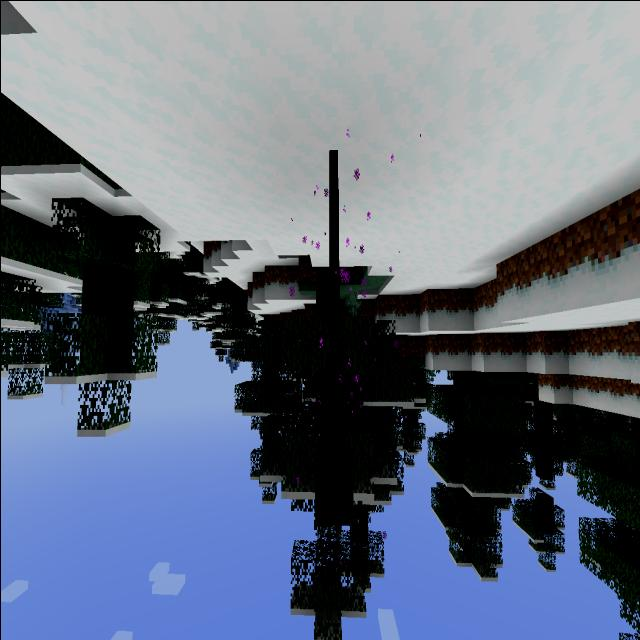Enderman: (300, 132, 359, 542)
